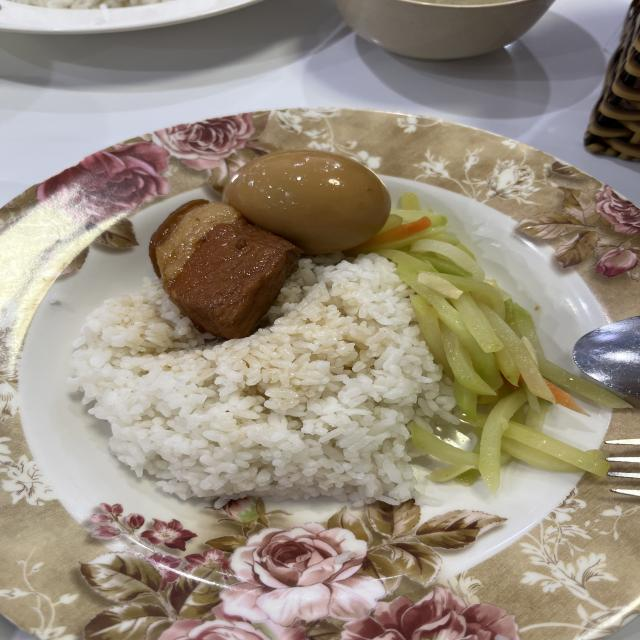com: (70, 254, 460, 505)
kho trung: (150, 150, 390, 339)
rau: (359, 193, 629, 493)
